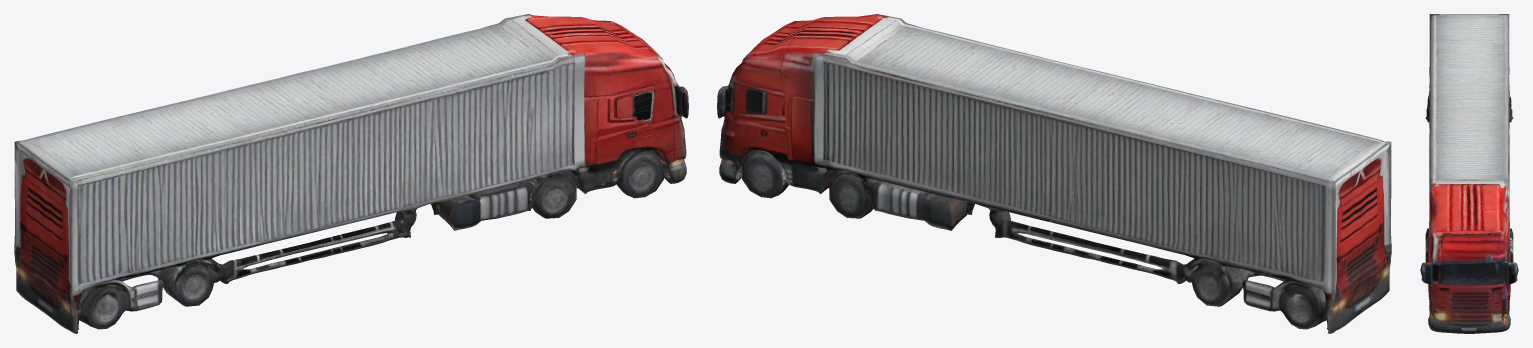
Rendered from Red_Truck__0312151401_texture.obj.
3 views of the same model, side by side, from view 1: azimuth 30°, elevation 25°; view 2: azimuth 150°, elevation 25°; view 3: azimuth 270°, elevation 25° (orthographic). The views are drawn at different scales.
Visible parts, largest first — view 1: Red_Truck__0312151401_texture; view 2: Red_Truck__0312151401_texture; view 3: Red_Truck__0312151401_texture.
Boxes of the visible parts, <box> form: Red_Truck__0312151401_texture: <box>14,14,688,333</box>; Red_Truck__0312151401_texture: <box>717,14,1391,333</box>; Red_Truck__0312151401_texture: <box>1420,14,1518,333</box>.
Bounding box in the file's own units: 1.99 × 0.4915 × 0.3848.
1 material, 1 textured.
